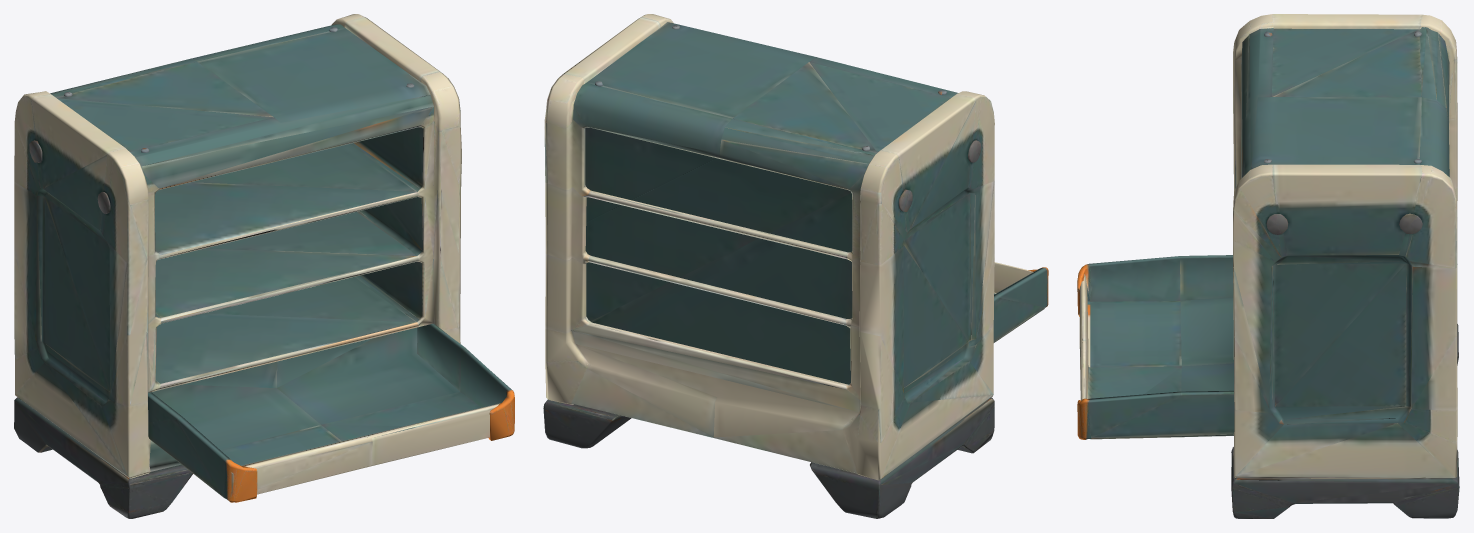
Rendered from warehouse-lod0.d5af45ae4d76.glb.
The picture shows the model from 3 angles, left to right: view 1: azimuth 30°, elevation 25°; view 2: azimuth 150°, elevation 25°; view 3: azimuth 270°, elevation 25°; orthographic projection. The views are drawn at different scales.
Visible parts, largest first — view 1: geometry_0; view 2: geometry_0; view 3: geometry_0.
Boxes of the visible parts, x1=… form: geometry_0: x1=14, y1=14, x2=514, y2=518; geometry_0: x1=543, y1=14, x2=1048, y2=518; geometry_0: x1=1077, y1=14, x2=1459, y2=518.
Size of the model in its own units: 1 by 0.9969 by 0.9925.
Materials: 1 (1 with a texture image).
